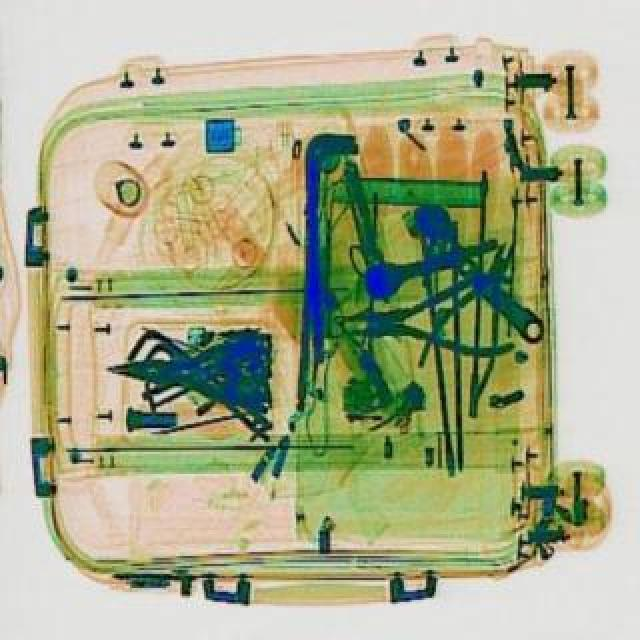wrench: (342, 272, 514, 360), (104, 334, 268, 402)
